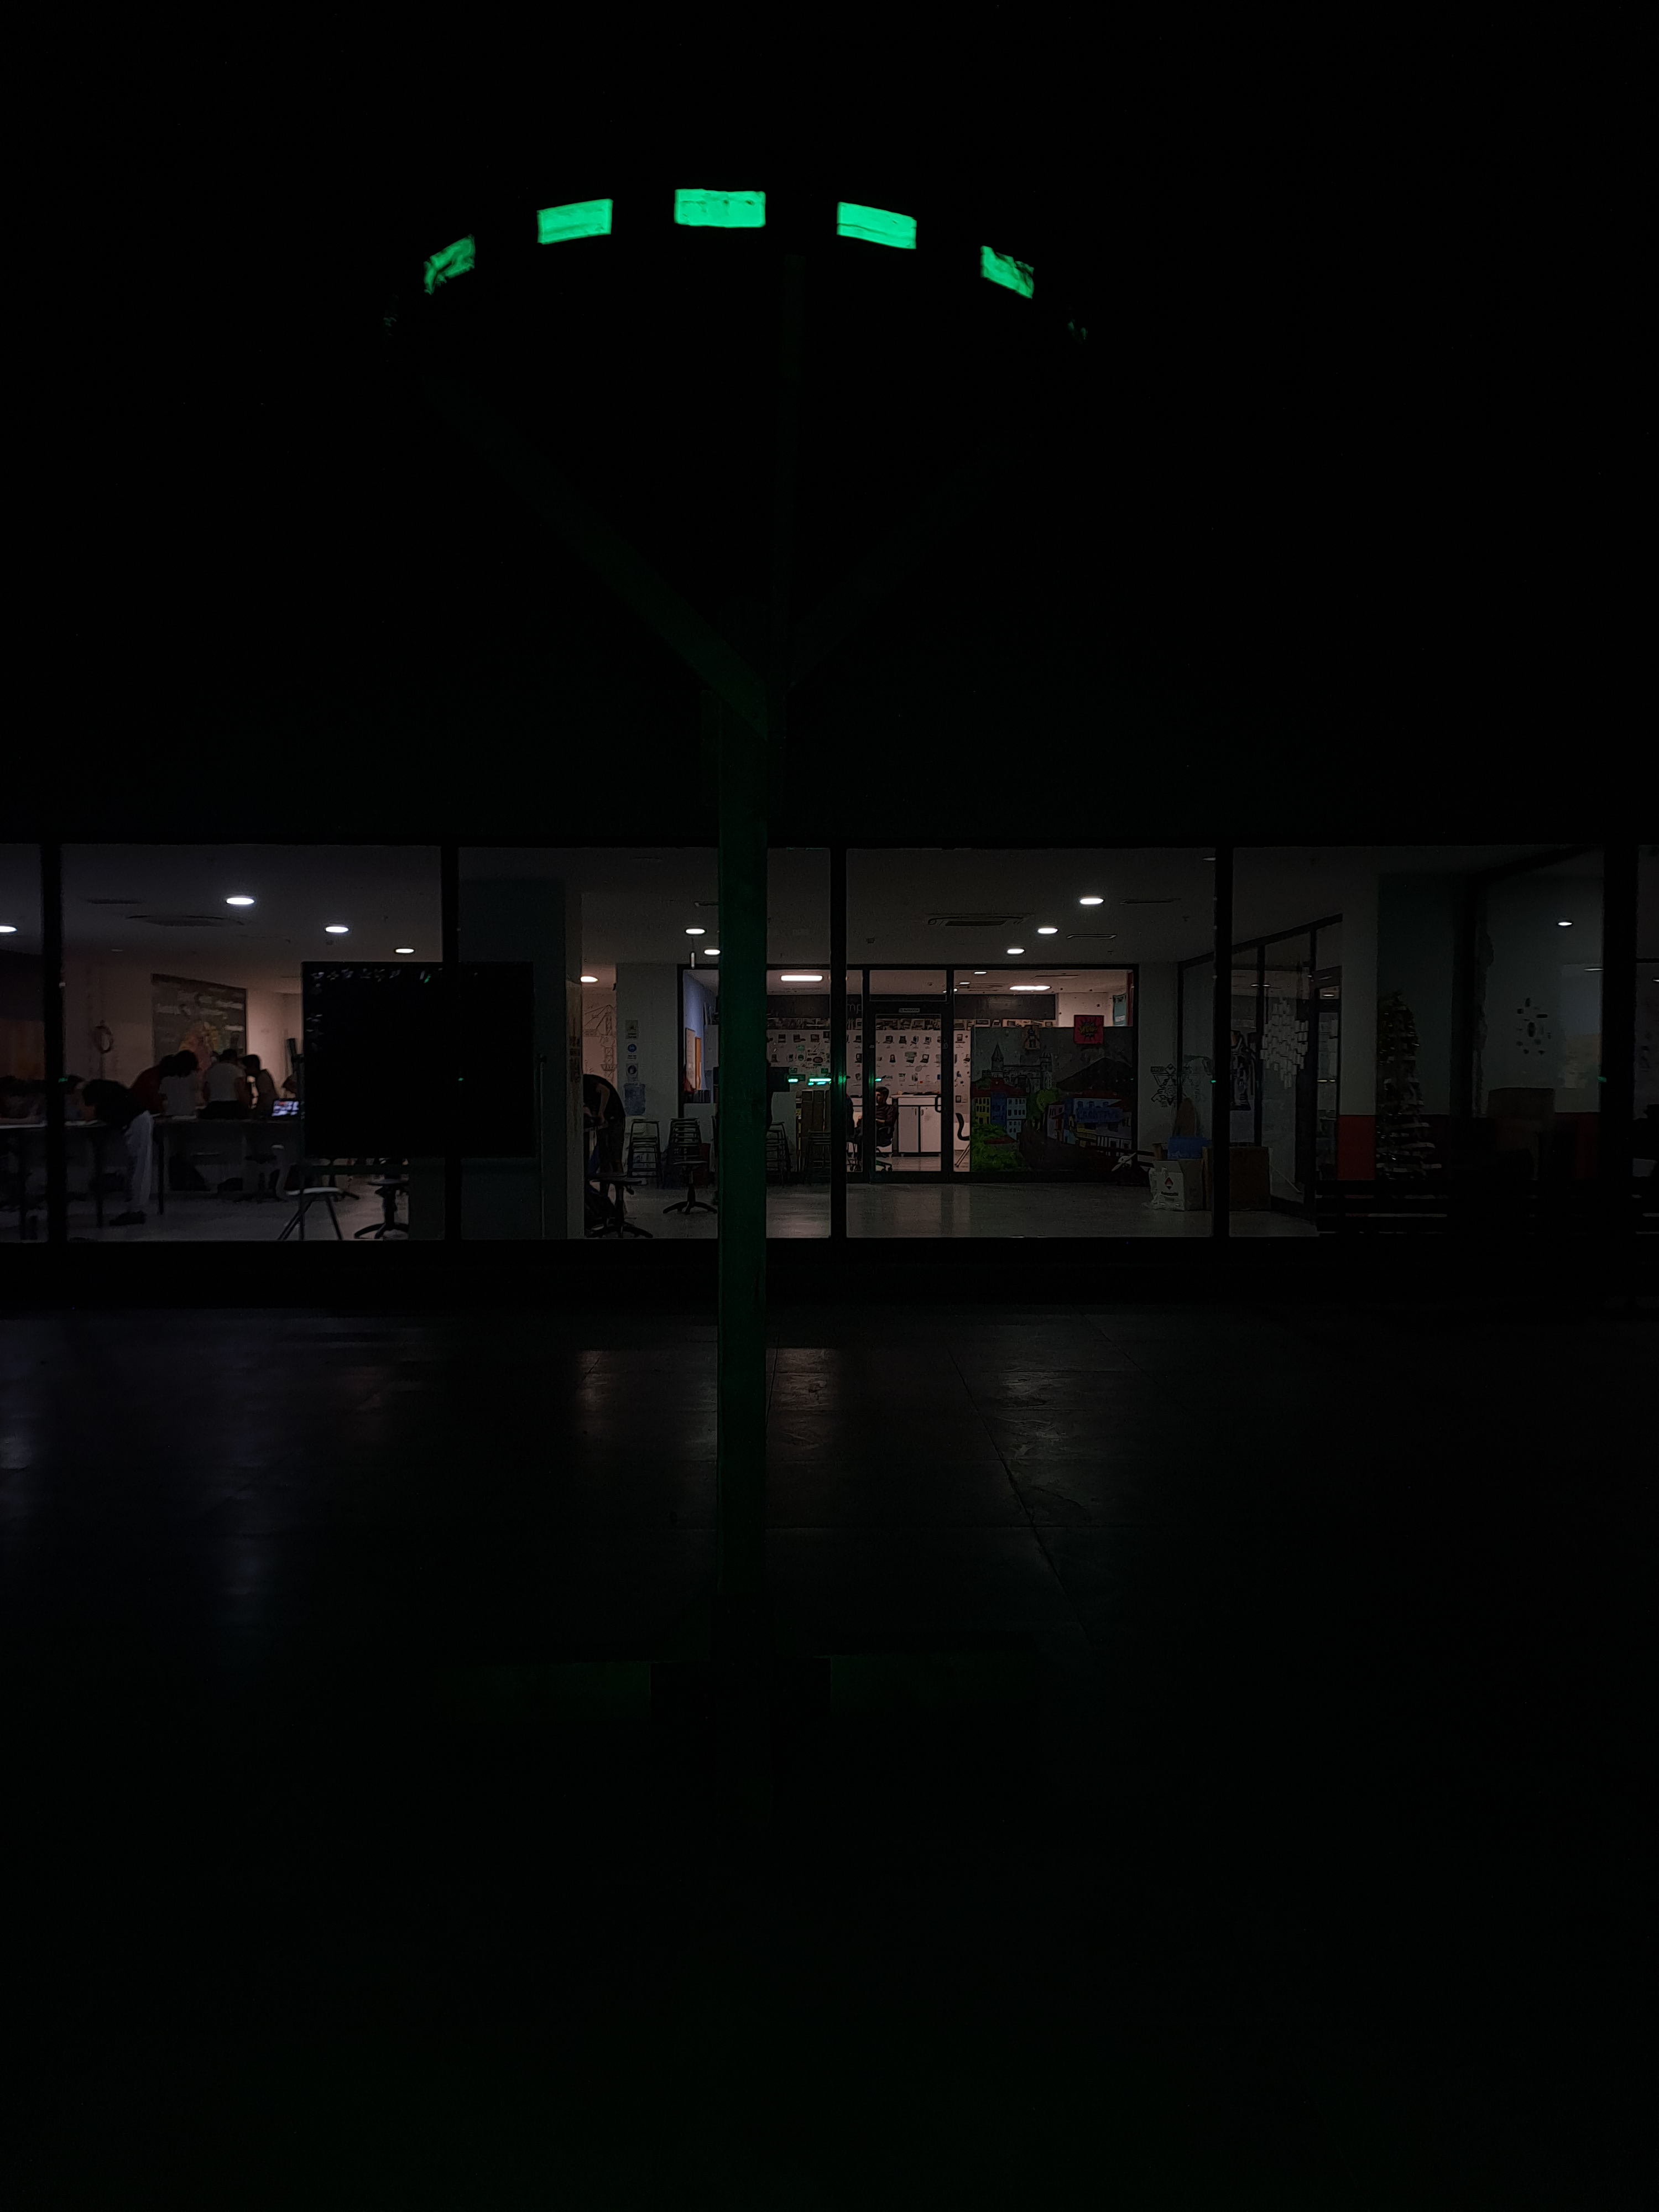hoop: (423, 190, 1037, 308)
